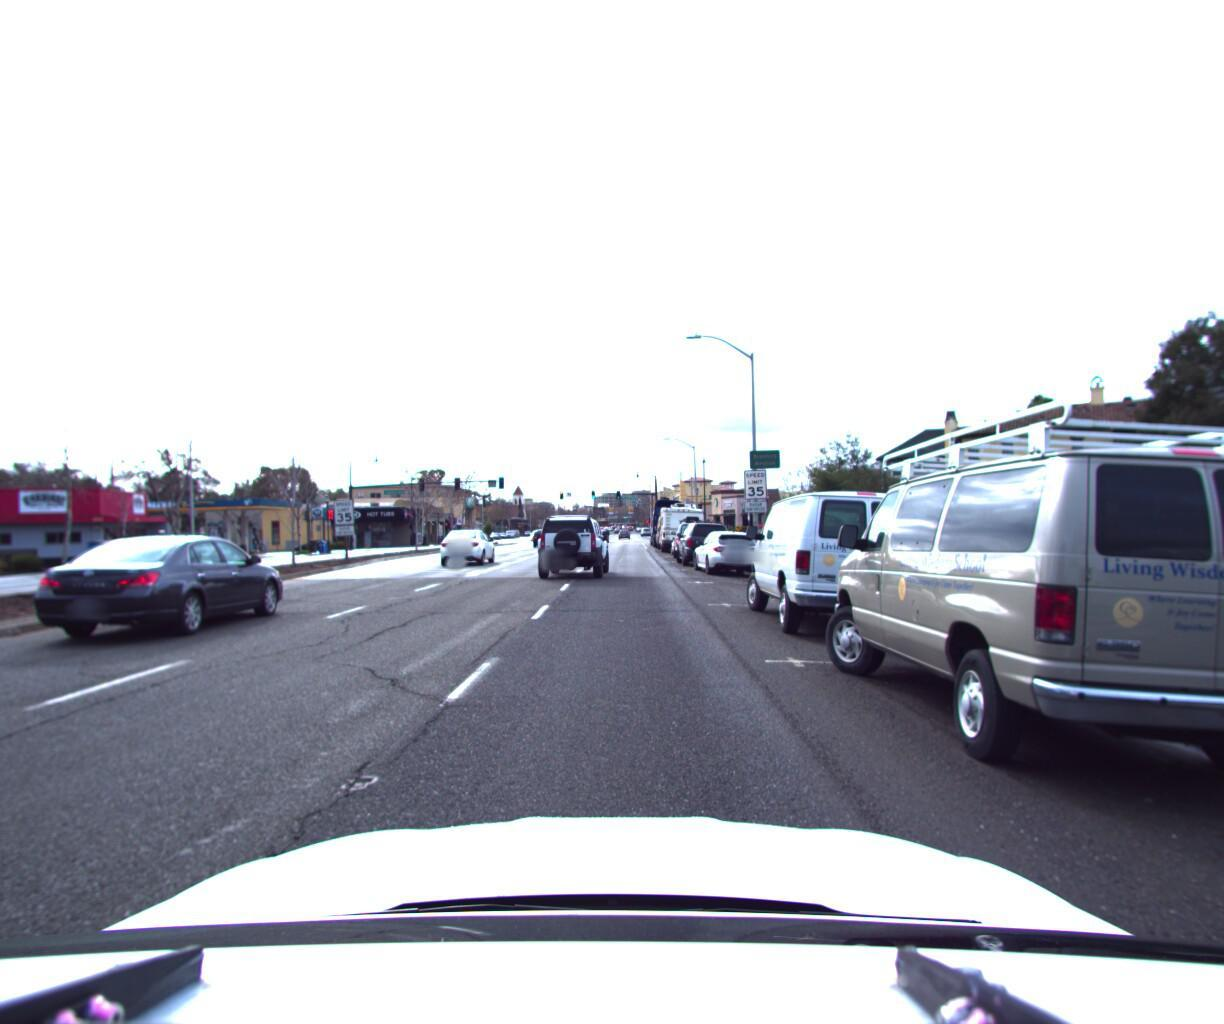car: (822, 386, 1224, 826), (22, 524, 297, 648), (744, 487, 953, 648), (528, 513, 610, 581), (692, 528, 764, 577), (674, 520, 734, 568), (437, 528, 500, 569), (672, 517, 721, 561)
other_vehicle: (659, 500, 706, 555)
truck: (651, 500, 688, 545)
